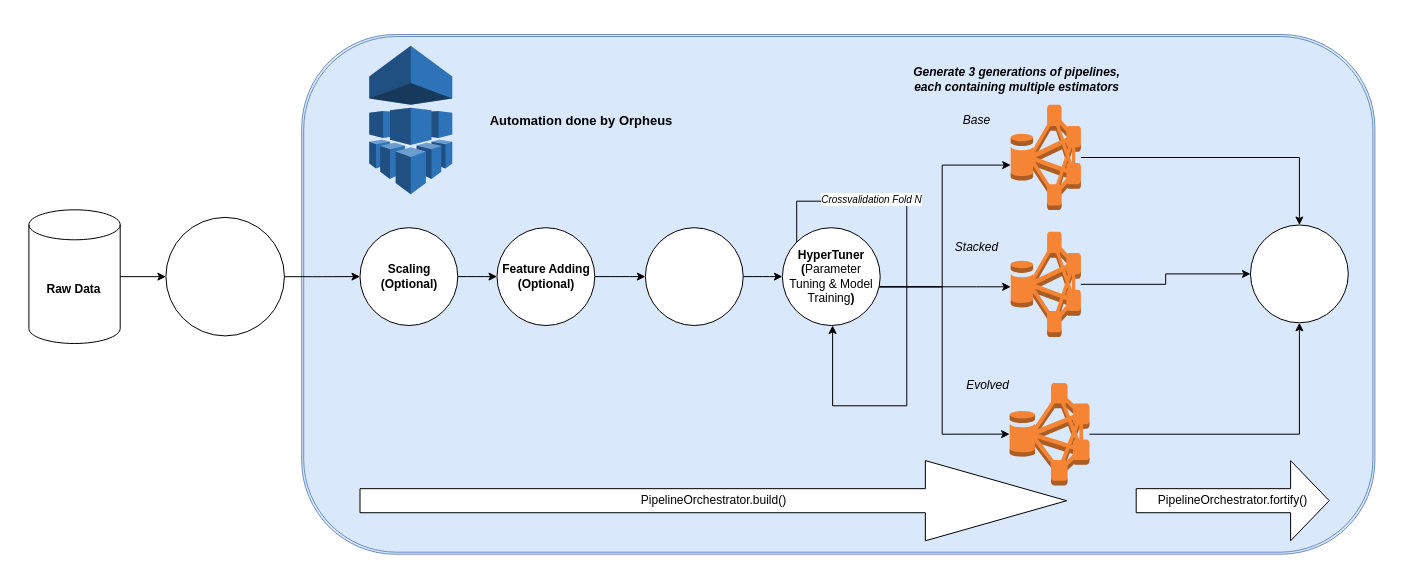
Some shapes in this 1404 by 584 pixel diagram are drawn without their labels. The shapes that lost their labels are listed below. From the top down, each one's centre as x and y in pixels, then its label:
the point at 224,276: Data Cleaning (encoding/handling NAN values)
the point at 693,276: Feature Removing (Optional)
the point at 1299,273: Model Validation
